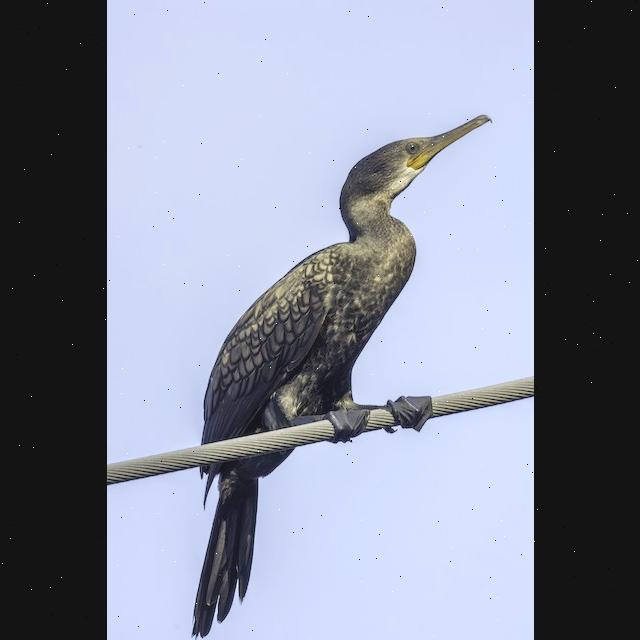cormorant: (202, 112, 490, 622)
